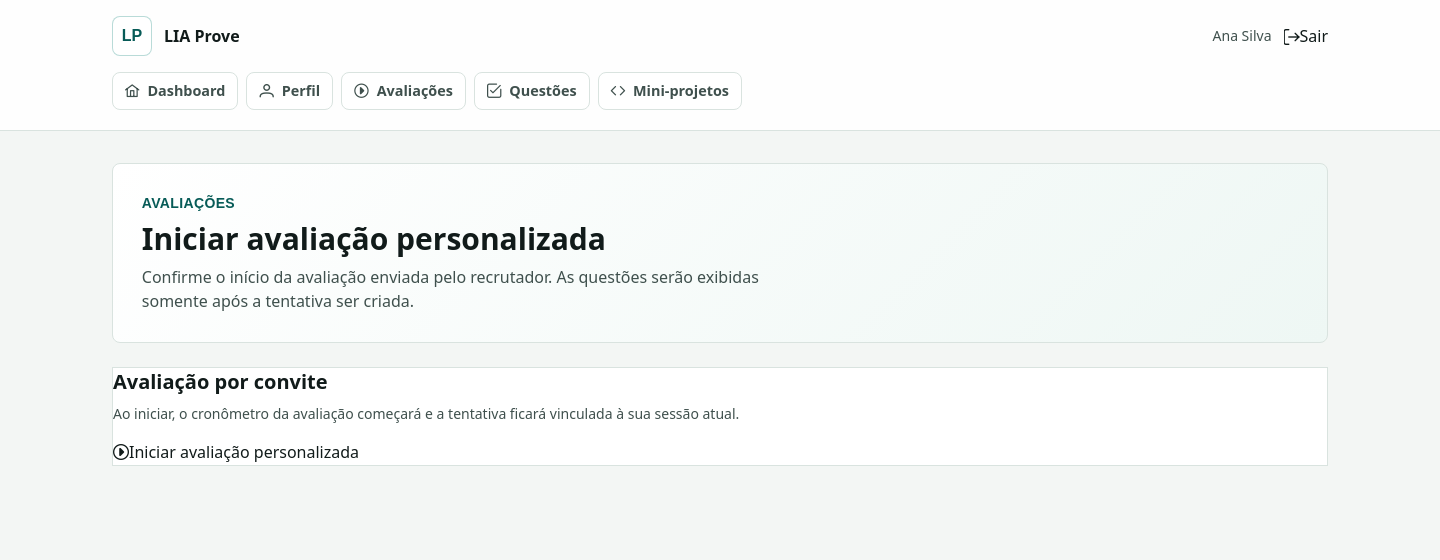
it: PersonalizedAssessmentStartView › shows an error when the token is invalid
Step 1. Click the button with test id "start-personalized-assessment" → (236, 452), box [113,440,359,464]
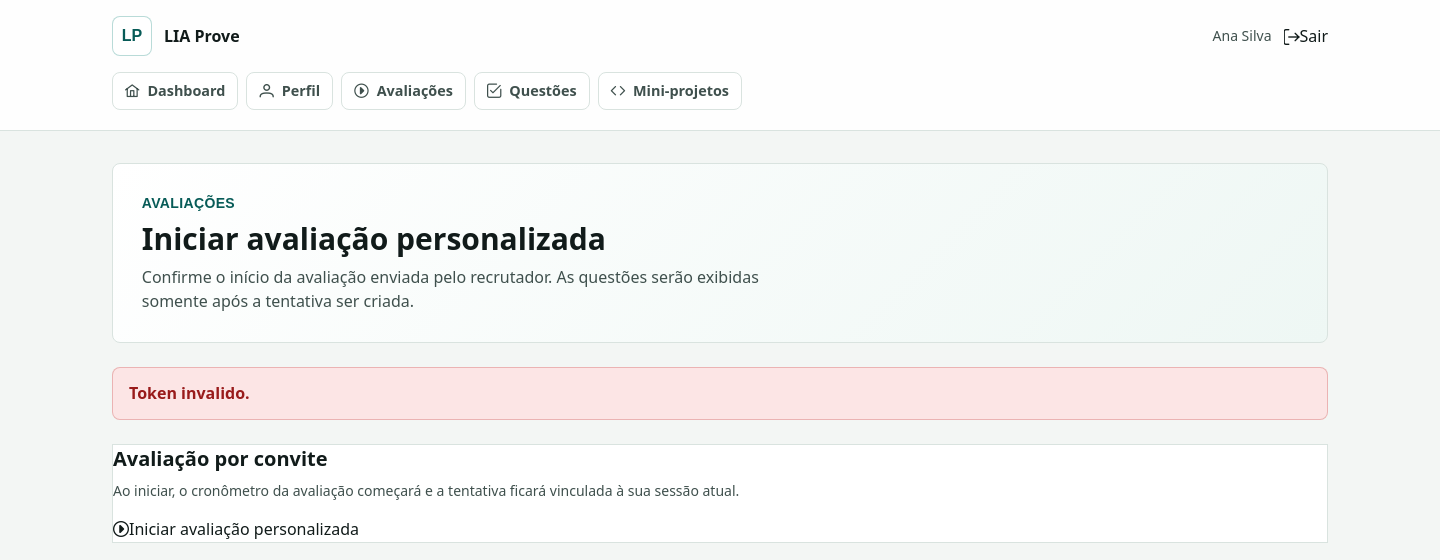
Expected: the text "Token invalido." is shown, [112,367,1328,420]
